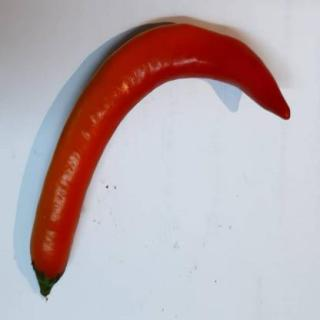Cabai Merah: (30, 24, 290, 300)
